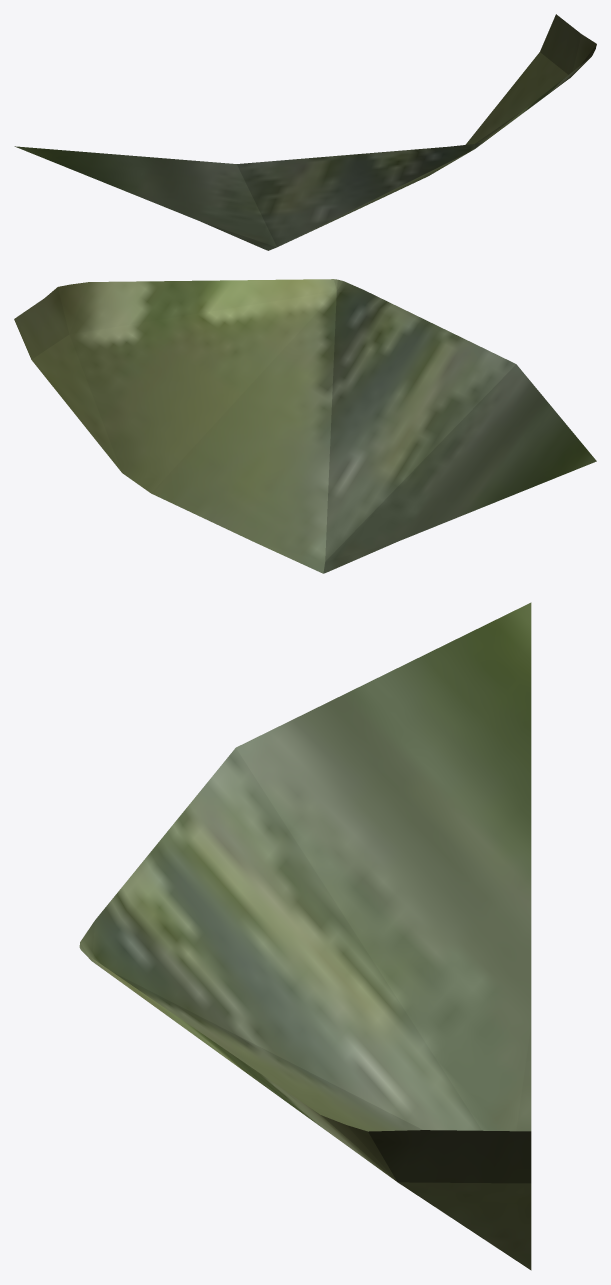
3 renders of one model, top to bottom at view 1: azimuth 30°, elevation 25°; view 2: azimuth 150°, elevation 25°; view 3: azimuth 270°, elevation 25°, orthographic. The views are drawn at different scales.
Bounding box in the file's own units: 0.8109 × 0.2382 × 0.2925.
1 material, 1 textured.
